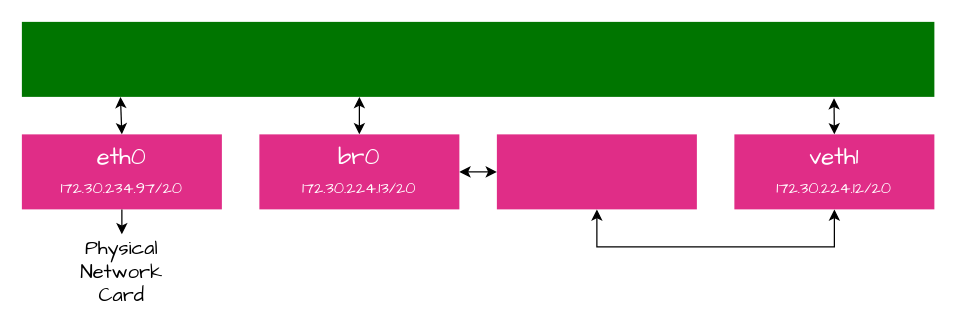
Image size: 955x330. Some labels were removed from this diagram. Here are the shapes that lost their labels. From the top down, the box of each, then its label:
(21, 21, 934, 96): Network Protocol Stack
(496, 134, 696, 209): veth0 unsetting
